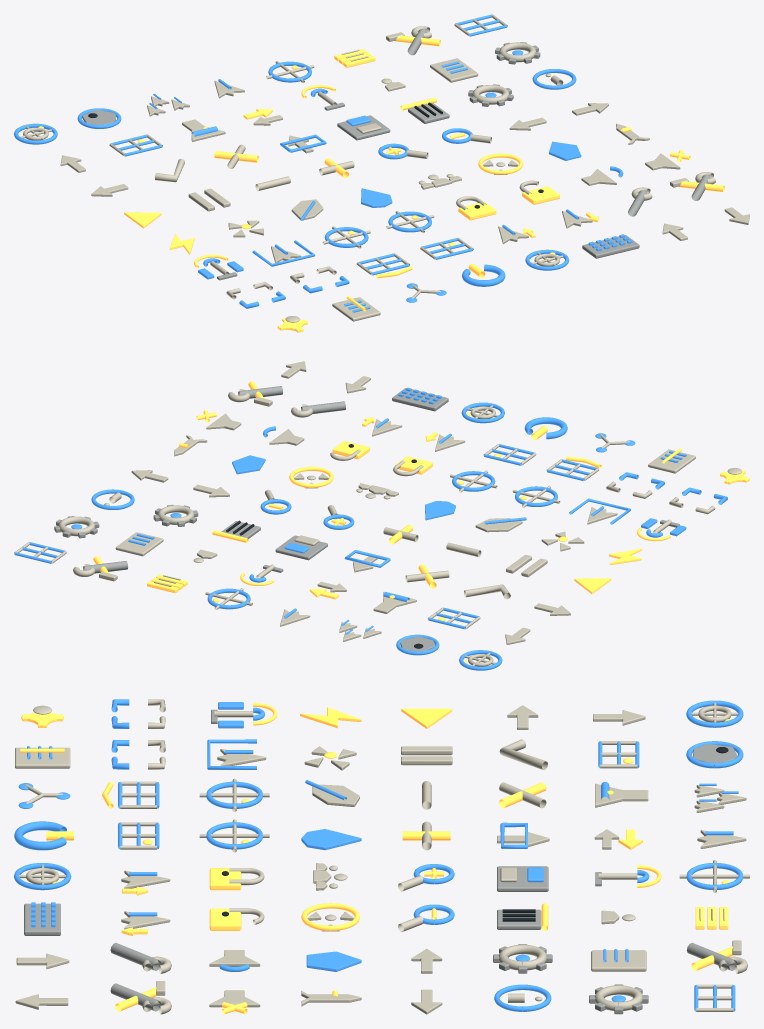
Rendered from ui-kit.glb.
3 views of the same model, one above another, from view 1: azimuth 30°, elevation 25°; view 2: azimuth 150°, elevation 25°; view 3: azimuth 270°, elevation 25° (orthographic). The views are drawn at different scales.
Visible parts, largest first — view 1: Bevelled plate.035 export mesh, Bevelled plate.005 export mesh, Bevelled plate.034 export mesh, Bevelled plate.014 export mesh; view 2: Bevelled plate.035 export mesh, Bevelled plate.005 export mesh, Bevelled plate.034 export mesh, Bevelled plate.014 export mesh; view 3: Bevelled plate.005 export mesh, Bevelled plate.034 export mesh, Raised trace.116 export mesh, Bevelled plate.035 export mesh, Bevelled plate.014 export mesh, Solid pictogram.021 export mesh, Solid pictogram.028 export mesh, Raised trace.037 export mesh, Raised trace.046 export mesh, Raised trace.060 export mesh, Raised trace.047 export mesh, Solid pictogram.006 export mesh (+17 smaller).
Boxes of the visible parts, x1,y1,x2,y2 form: Bevelled plate.035 export mesh: (582, 235, 639, 258); Bevelled plate.005 export mesh: (430, 58, 478, 82); Bevelled plate.034 export mesh: (332, 297, 380, 321); Bevelled plate.014 export mesh: (337, 115, 390, 140); Bevelled plate.035 export mesh: (392, 388, 448, 411); Bevelled plate.005 export mesh: (115, 532, 163, 556); Bevelled plate.034 export mesh: (648, 449, 695, 473); Bevelled plate.014 export mesh: (275, 535, 327, 560); Bevelled plate.005 export mesh: (591, 950, 646, 971); Bevelled plate.034 export mesh: (15, 747, 70, 768); Raised trace.116 export mesh: (14, 821, 66, 850); Bevelled plate.035 export mesh: (24, 903, 60, 935); Bevelled plate.014 export mesh: (497, 866, 548, 891); Solid pictogram.021 export mesh: (301, 829, 361, 850); Solid pictogram.028 export mesh: (306, 951, 361, 971); Raised trace.037 export mesh: (595, 985, 642, 1010); Raised trace.046 export mesh: (499, 944, 546, 970); Raised trace.060 export mesh: (301, 903, 359, 930); Raised trace.047 export mesh: (494, 984, 551, 1011); Solid pictogram.006 export mesh: (595, 783, 648, 807).
Size of the model in its own units: 19.95 by 0.3471 by 19.93.
